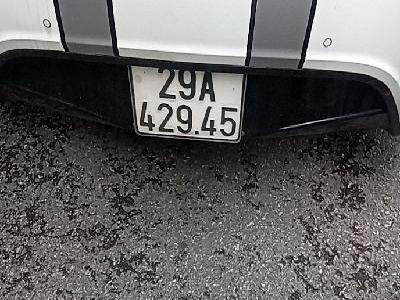lisence: (126, 62, 248, 145)
